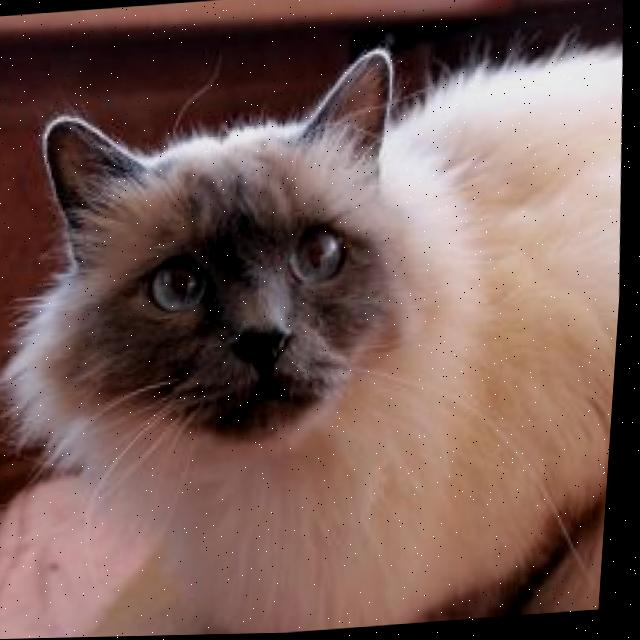Birman: (0, 23, 638, 640)
